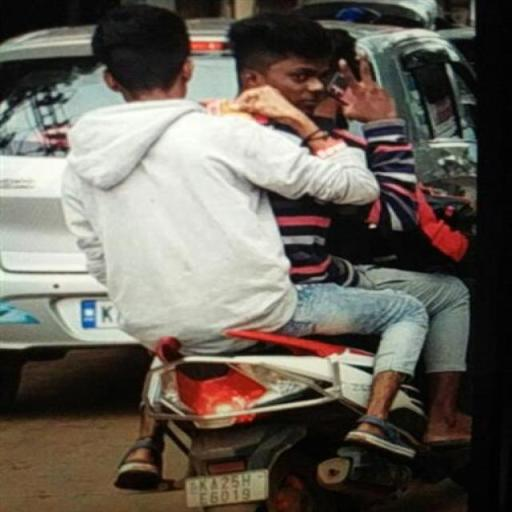tripple riding: (36, 8, 478, 306)
